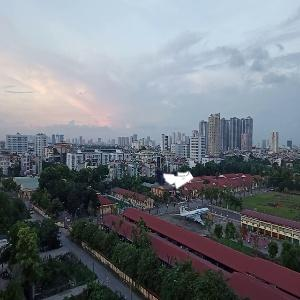drone: (135, 149, 188, 202)
